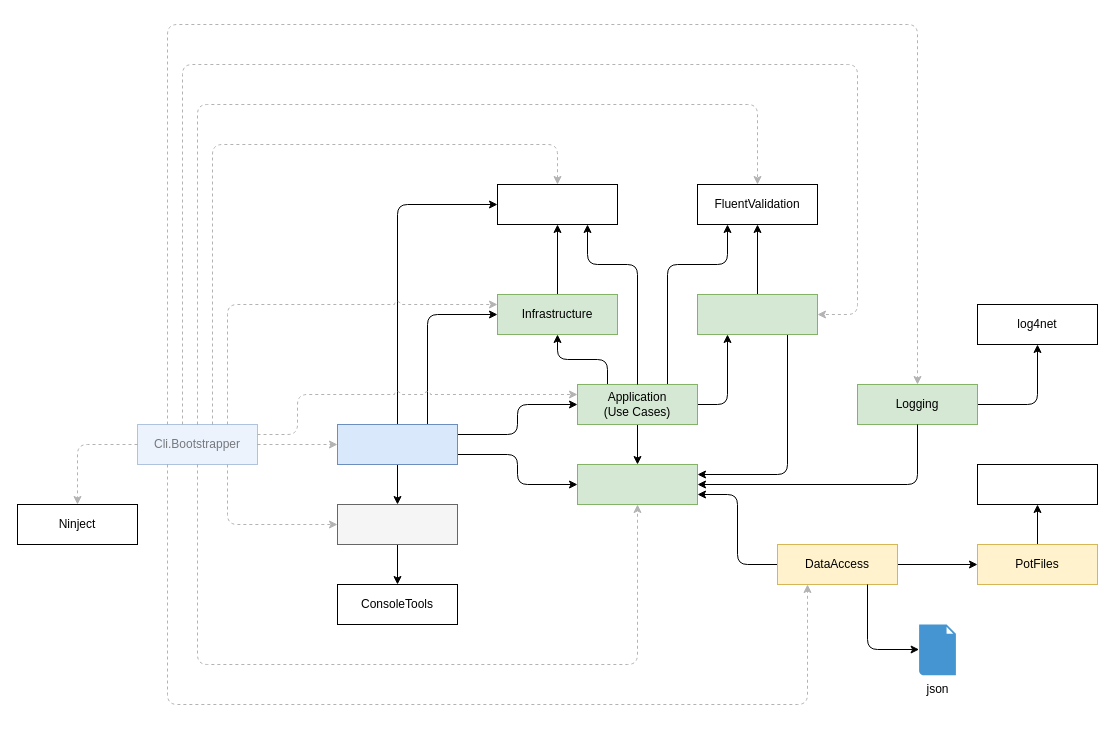
The diagram is 1115 pixels wide and 730 high, and some of its shapes have lost their labels. The shapes that lost their labels are listed below. From the top down, each one's box as (x1, y1, x2, y2) in pixels, then its label:
(496, 184, 618, 224): MediatR
(696, 294, 818, 334): Validation
(336, 424, 458, 464): Cli.Presentation
(576, 464, 698, 504): Domain (Entities)
(976, 464, 1098, 504): Newtonsoft.Json
(336, 504, 458, 544): ConsoleFramework
